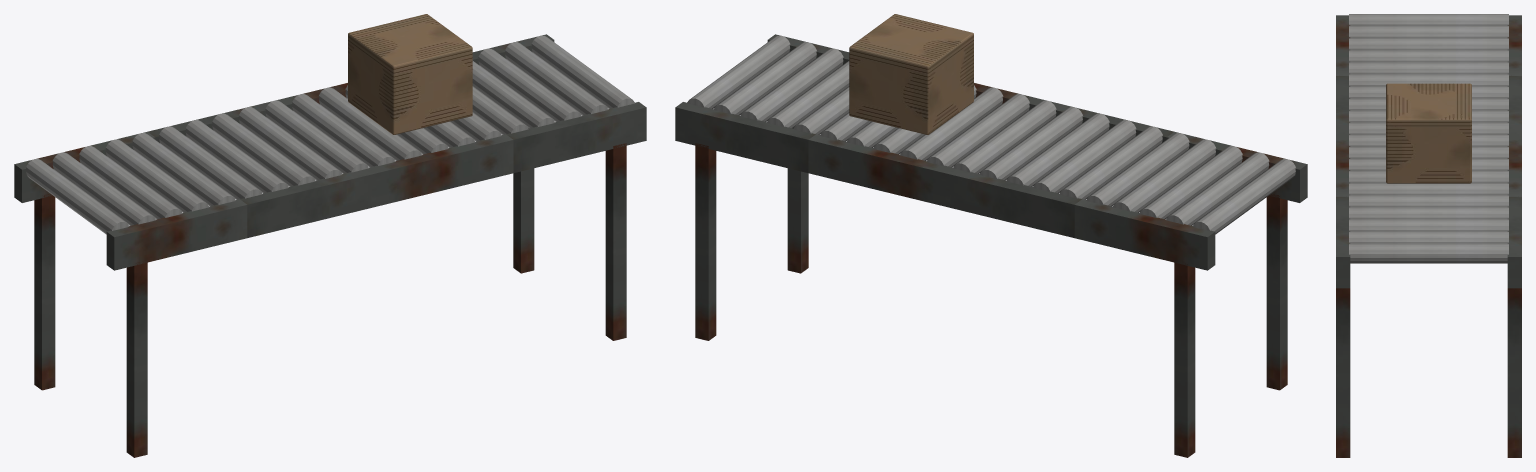
The model's file is HM19_RollerConveyor.glb.
3 views of the same model, side by side, from view 1: azimuth 30°, elevation 25°; view 2: azimuth 150°, elevation 25°; view 3: azimuth 270°, elevation 25° (orthographic). The views are drawn at different scales.
Parts seen in each view (by area): view 1: HM19_RollerConveyor; view 2: HM19_RollerConveyor; view 3: HM19_RollerConveyor.
Part boxes in pixels (bbox=[...]): HM19_RollerConveyor: bbox=[14, 14, 646, 457]; HM19_RollerConveyor: bbox=[675, 14, 1307, 457]; HM19_RollerConveyor: bbox=[1336, 14, 1521, 457].
Bounding box in the file's own units: 2 × 1.09 × 0.65.
3 materials, 3 textured.
